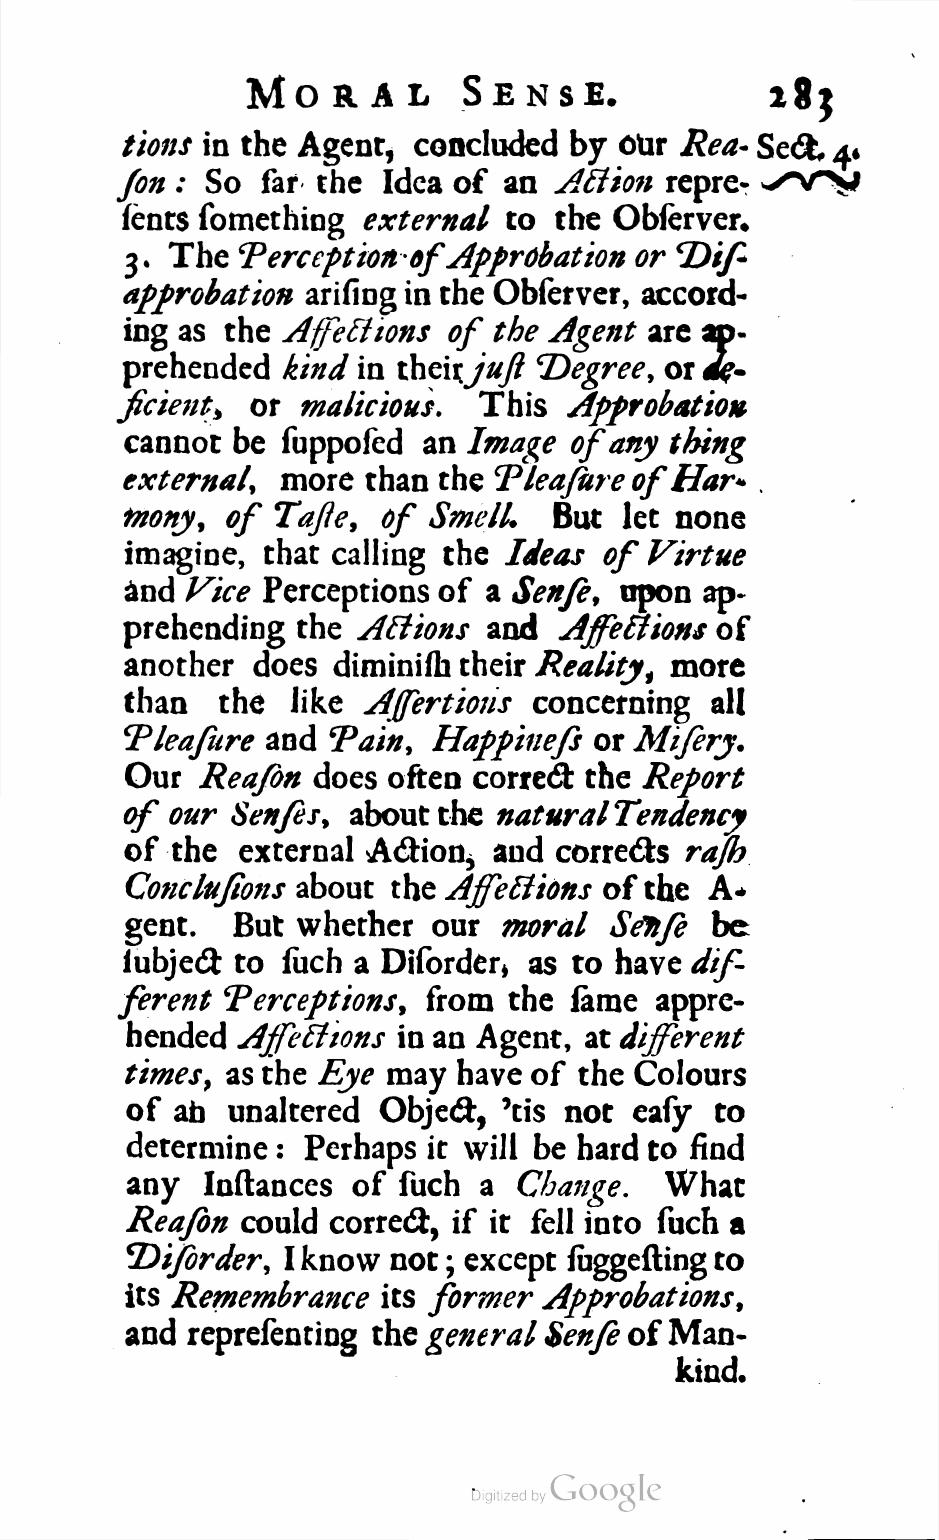bottom_p: (118, 127, 752, 237)
catchword: (676, 1356, 748, 1384)
header: (242, 64, 620, 118)
page_num: (762, 70, 842, 124)
print_marg: (758, 127, 864, 196)
top_p: (120, 238, 750, 1356)
